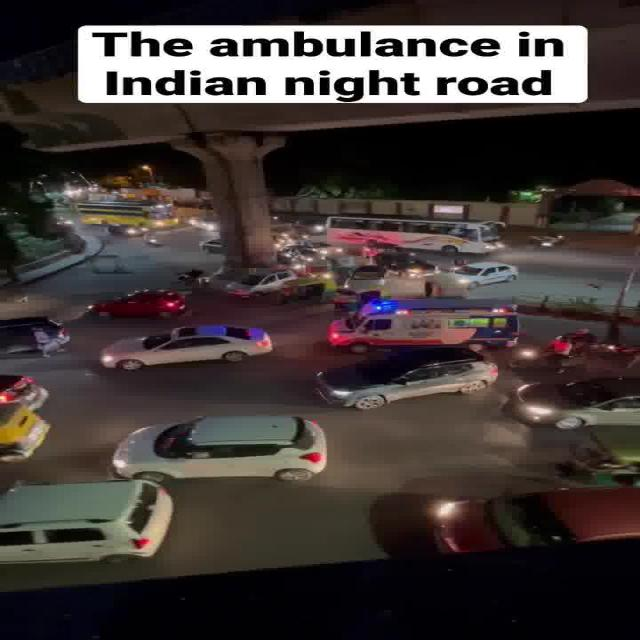ambulance: (314, 296, 529, 350)
